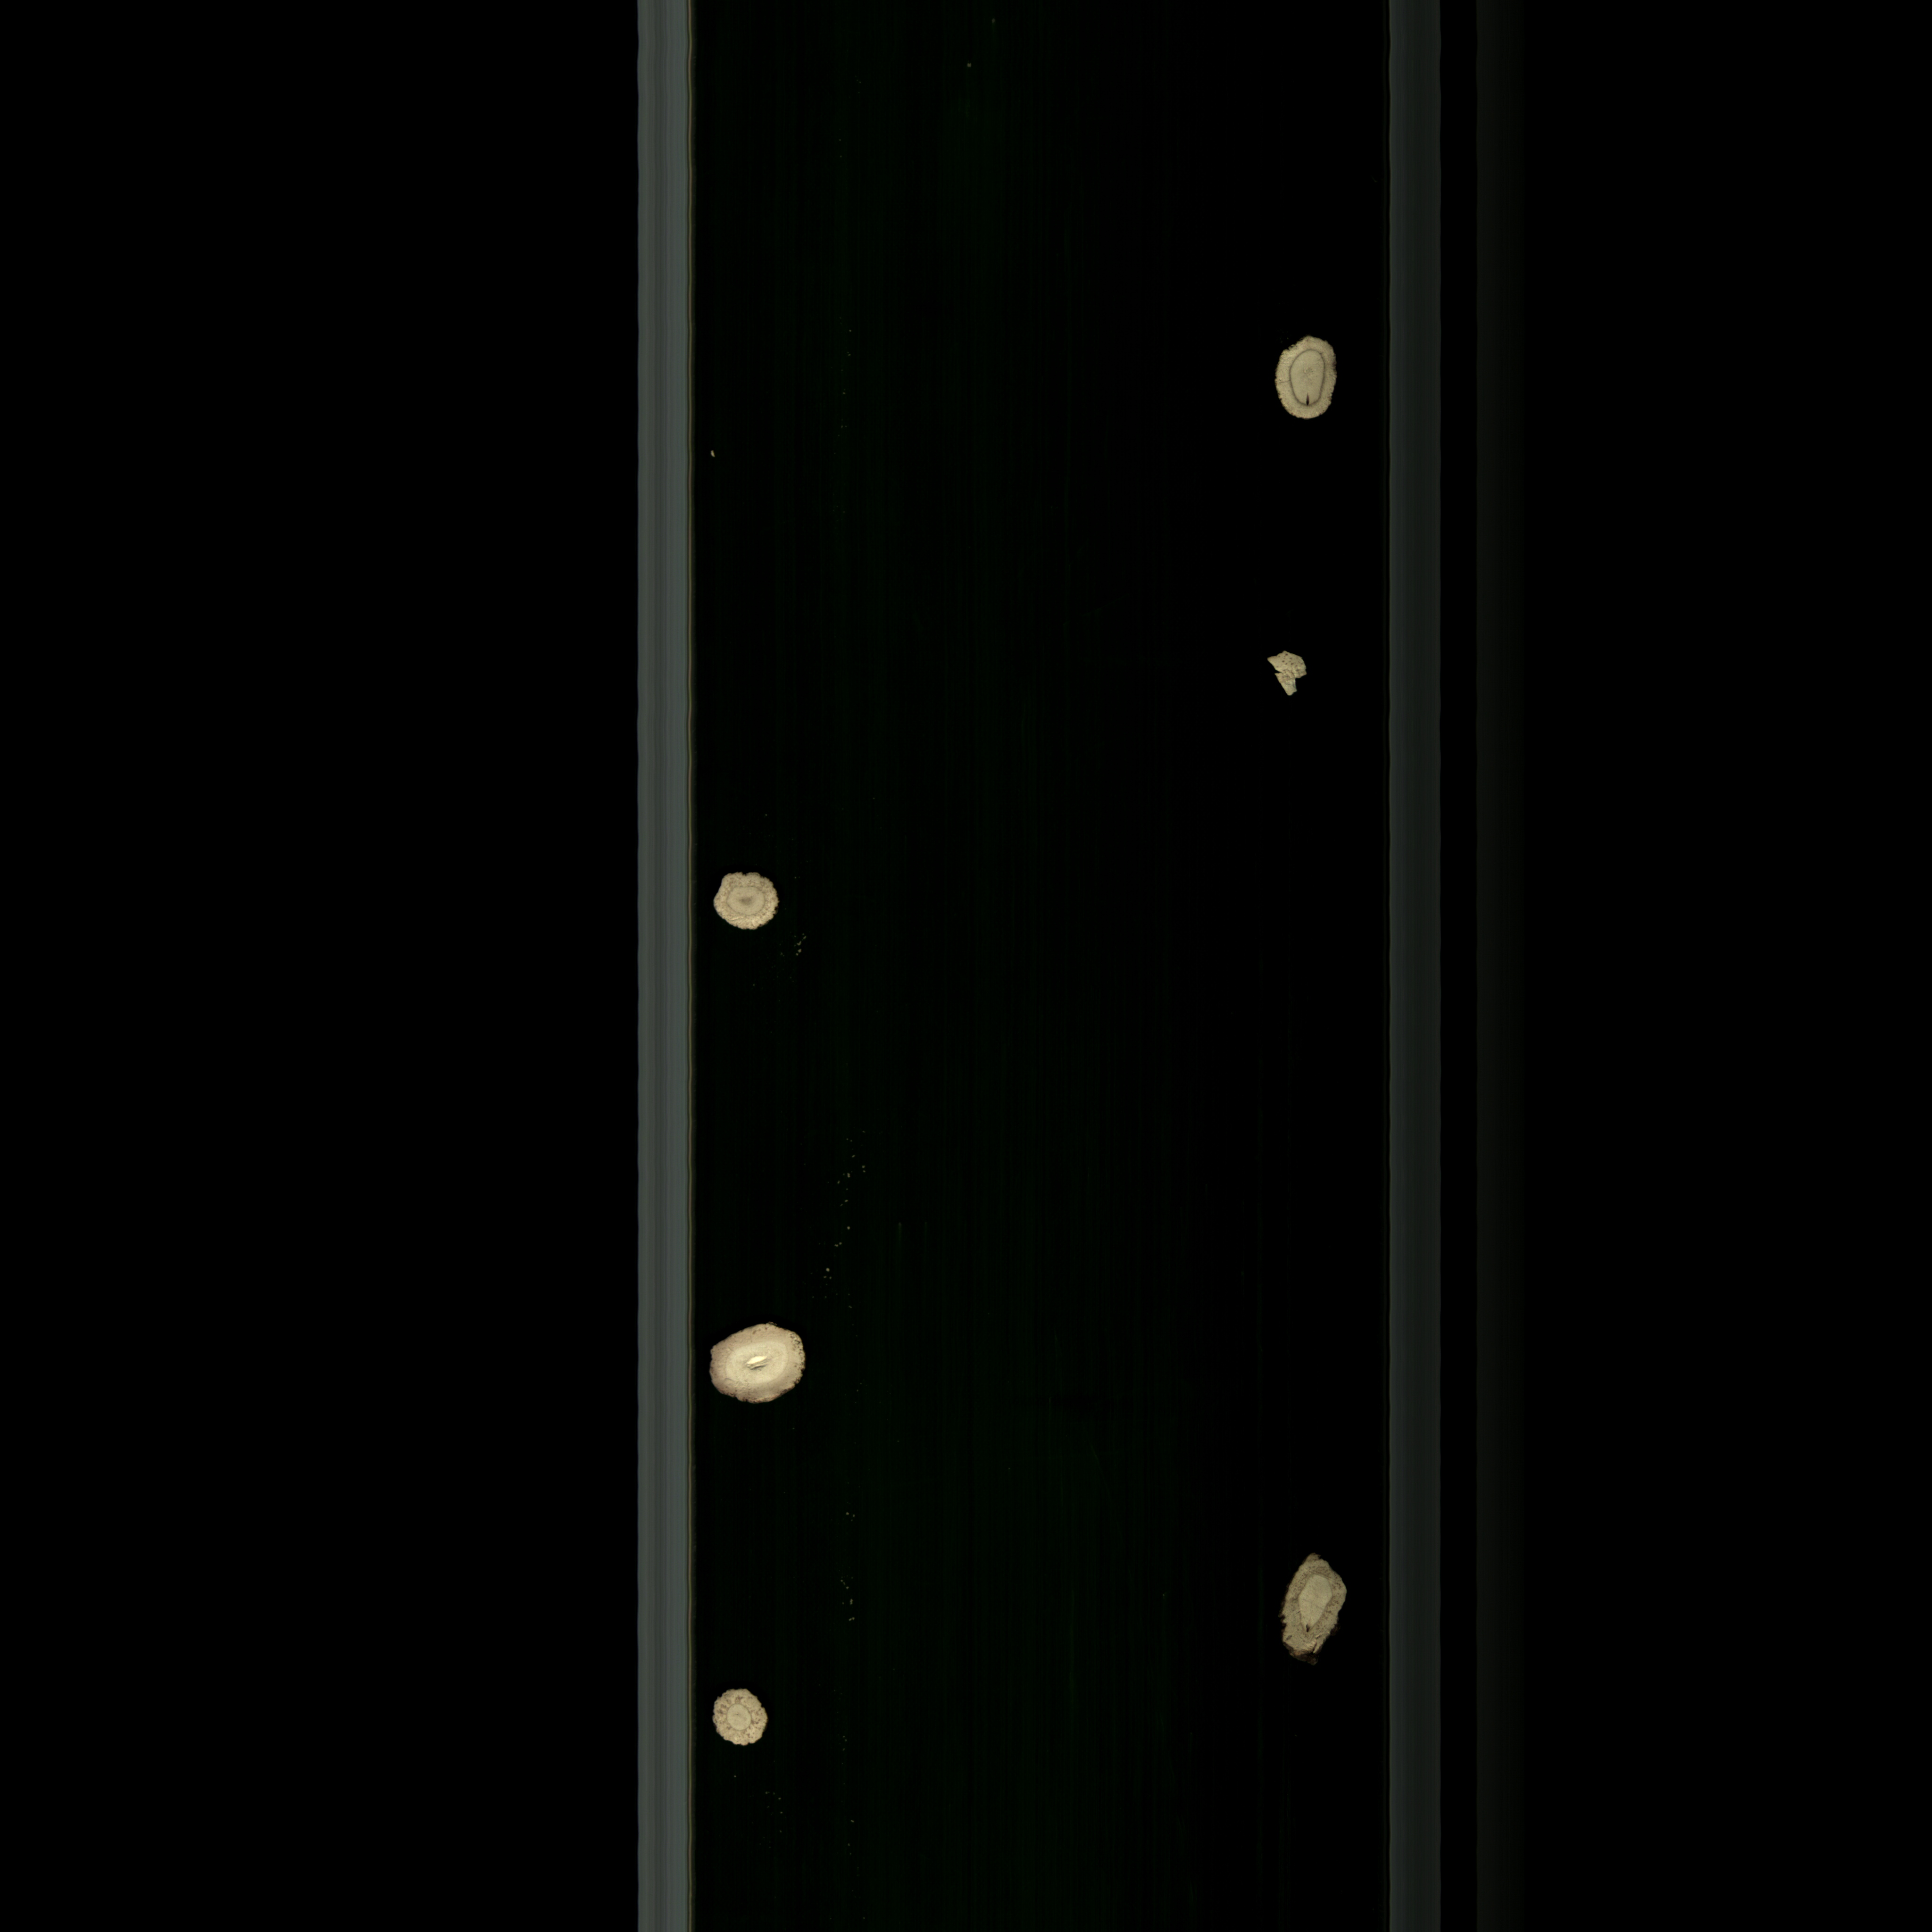dreg: (1247, 633, 1345, 727)
hole: (704, 1306, 862, 1428), (1251, 326, 1357, 441)
moldy: (1272, 1543, 1359, 1684)
